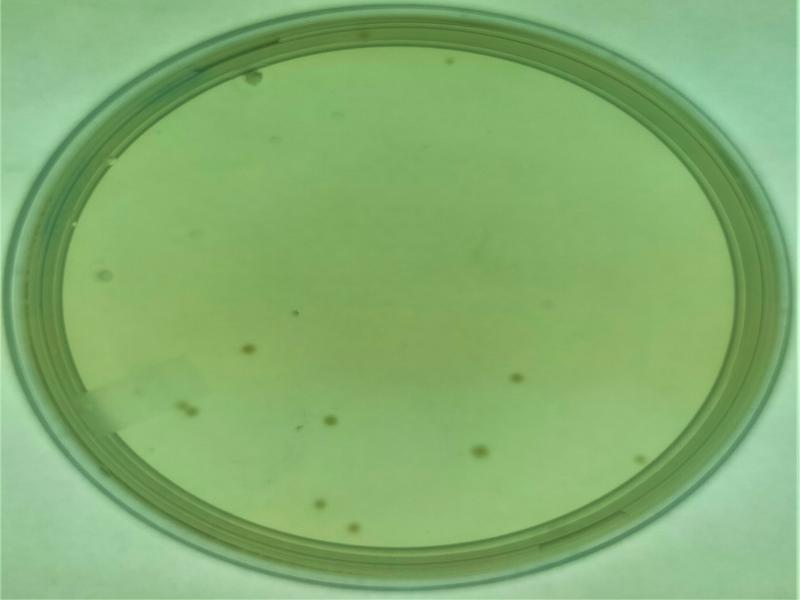colony: (463, 439, 501, 467), (317, 404, 346, 430), (237, 333, 259, 366), (305, 491, 334, 516), (339, 515, 369, 538), (505, 368, 531, 392)
